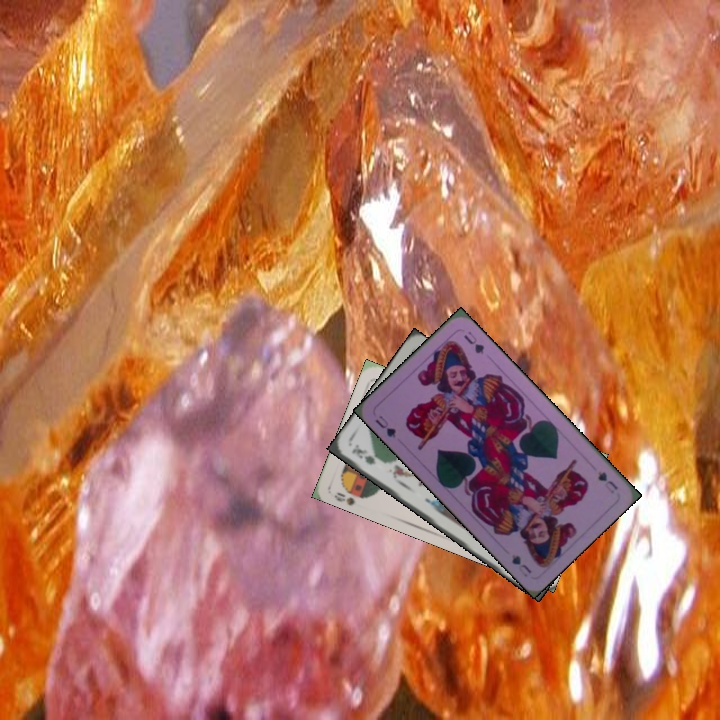GK: (348, 441, 378, 468)
GU: (371, 411, 399, 440), (594, 467, 621, 496)
SO: (330, 484, 370, 508)
